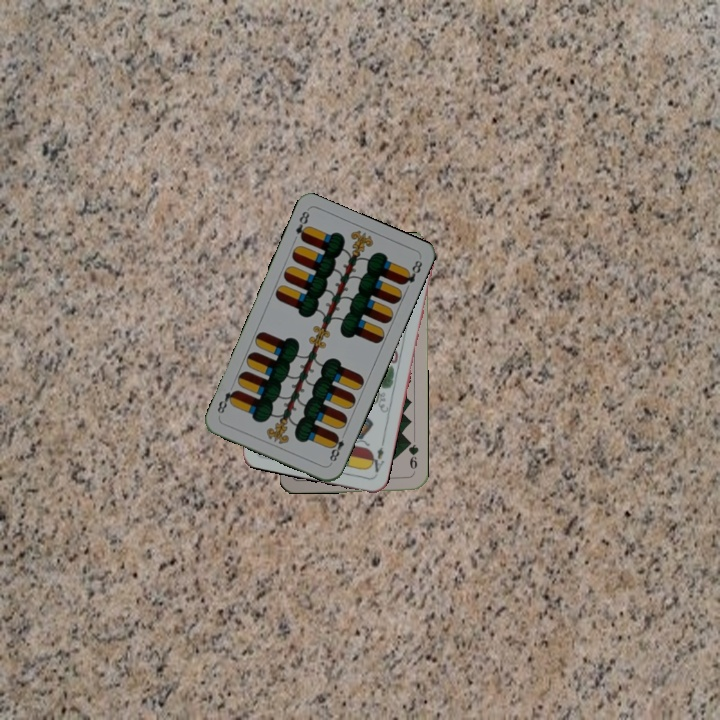E8: (289, 207, 312, 246), (325, 430, 347, 467)
EA: (365, 437, 387, 475)
G9: (404, 436, 421, 476)
